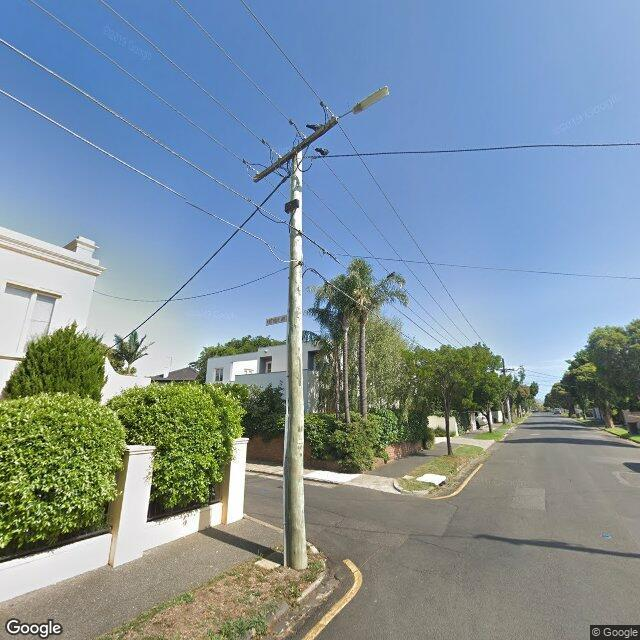crossarm: (254, 116, 338, 183), (494, 369, 515, 370)
streetlight: (338, 86, 390, 118)
timber-pole: (283, 148, 307, 571), (502, 358, 511, 426)
